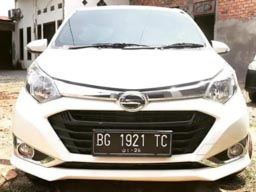plat: (93, 131, 171, 147)
